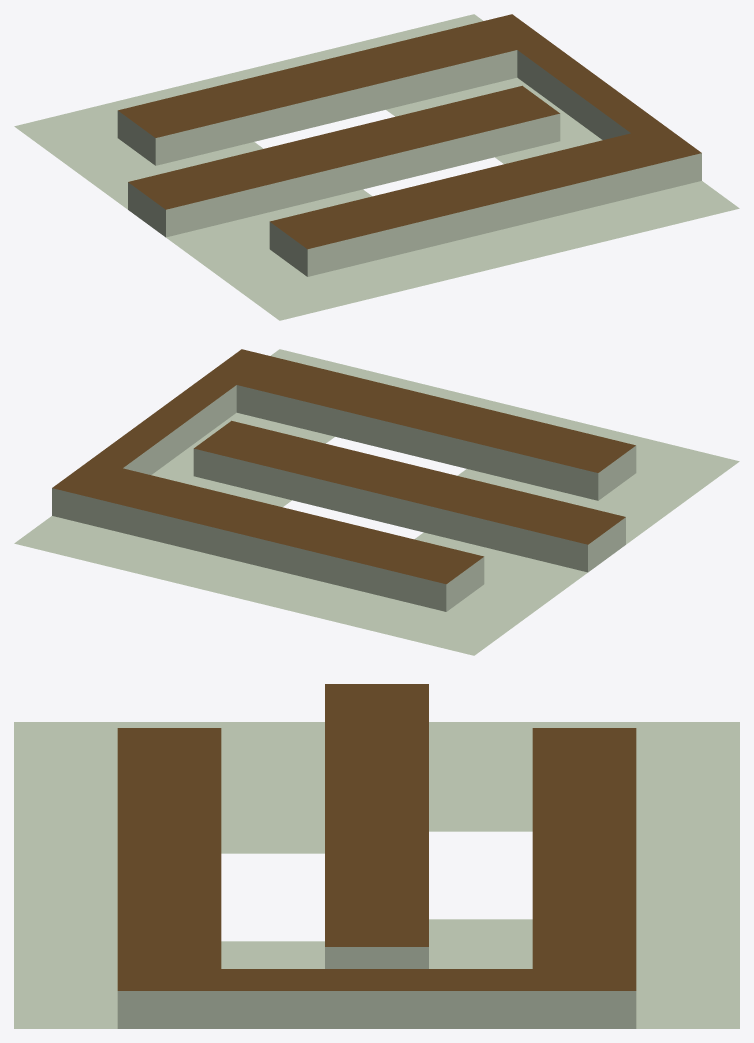
File: TutrialMaze3.fbx
3 renders of one model, top to bottom at view 1: azimuth 30°, elevation 25°; view 2: azimuth 150°, elevation 25°; view 3: azimuth 270°, elevation 25°, orthographic. The views are drawn at different scales.
Parts seen in each view (by area): view 1: Plane; view 2: Plane; view 3: Plane.
Part boxes in pixels (x1,y1,x2,y2): Plane: [14, 14, 739, 320]; Plane: [14, 349, 739, 655]; Plane: [14, 684, 739, 1028].
Bounding box in the file's own units: 4204 × 242 × 4204.
